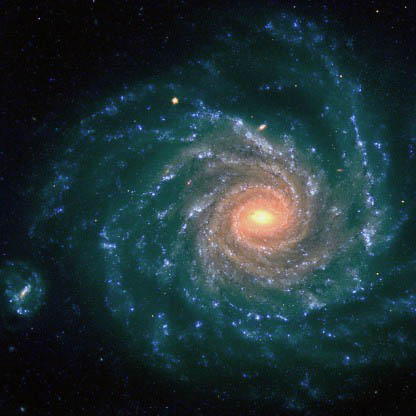NGC 1232: (5, 5, 409, 404)
